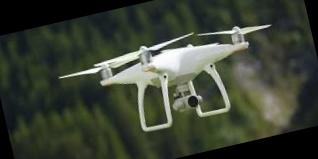drone: (57, 6, 284, 147)
